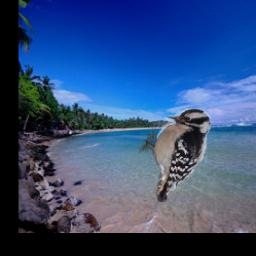Woodpecker: (139, 108, 211, 202)
